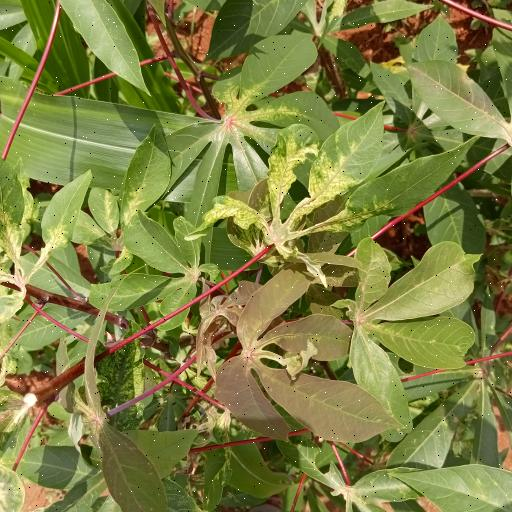Cassava_Brown_Leaf_Spot: (195, 140, 471, 270)
Cassava_Healthy: (224, 264, 389, 447), (356, 238, 480, 428)
